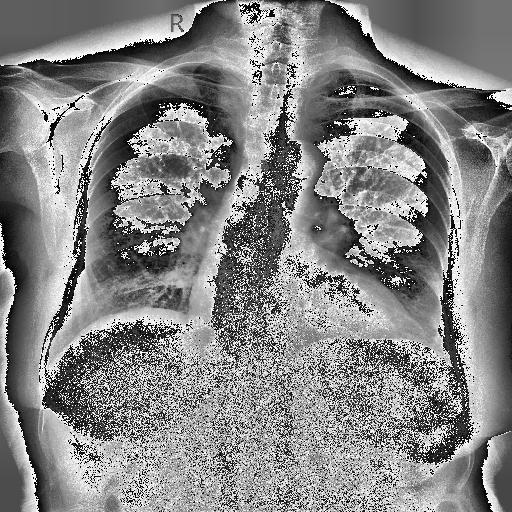0- Aortic enlargement: (218, 141, 322, 236), (270, 140, 325, 190)
11- Pleural thickening: (180, 62, 214, 70)
3- Cardiomegaly: (192, 262, 428, 348), (188, 278, 426, 345), (184, 291, 425, 342)
